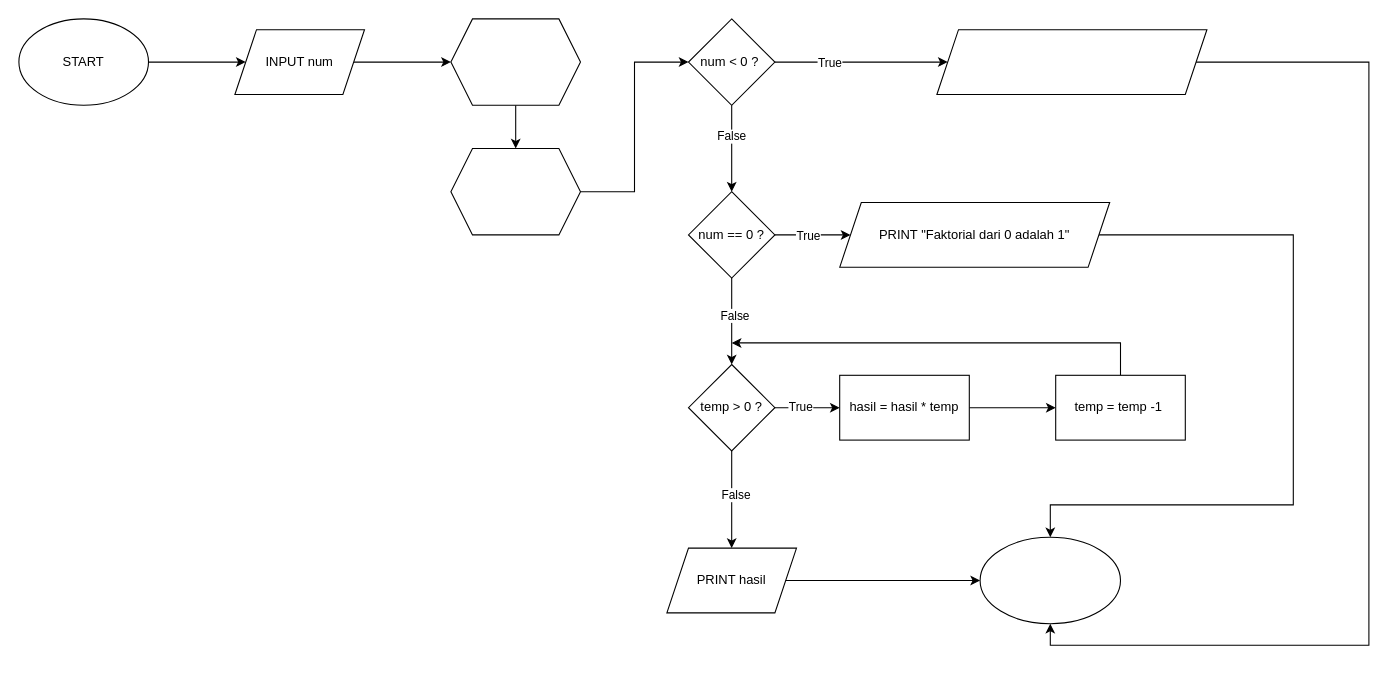
Image size: 1396x673. Some labels were removed from this diagram. The box of each missing label's shape, as (x1, y1, x2, y2) in pixels:
END: (979, 536, 1120, 624)
hasil = 1: (450, 18, 580, 105)
PRINT "Maaf, faktorial tidak bisa dihitung": (936, 29, 1207, 94)
temp = num: (450, 147, 580, 235)
